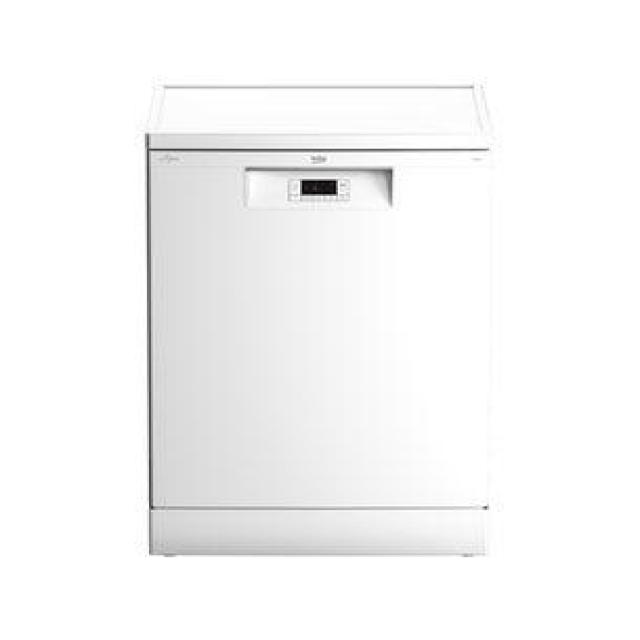dishwasher: (136, 128, 508, 563)
